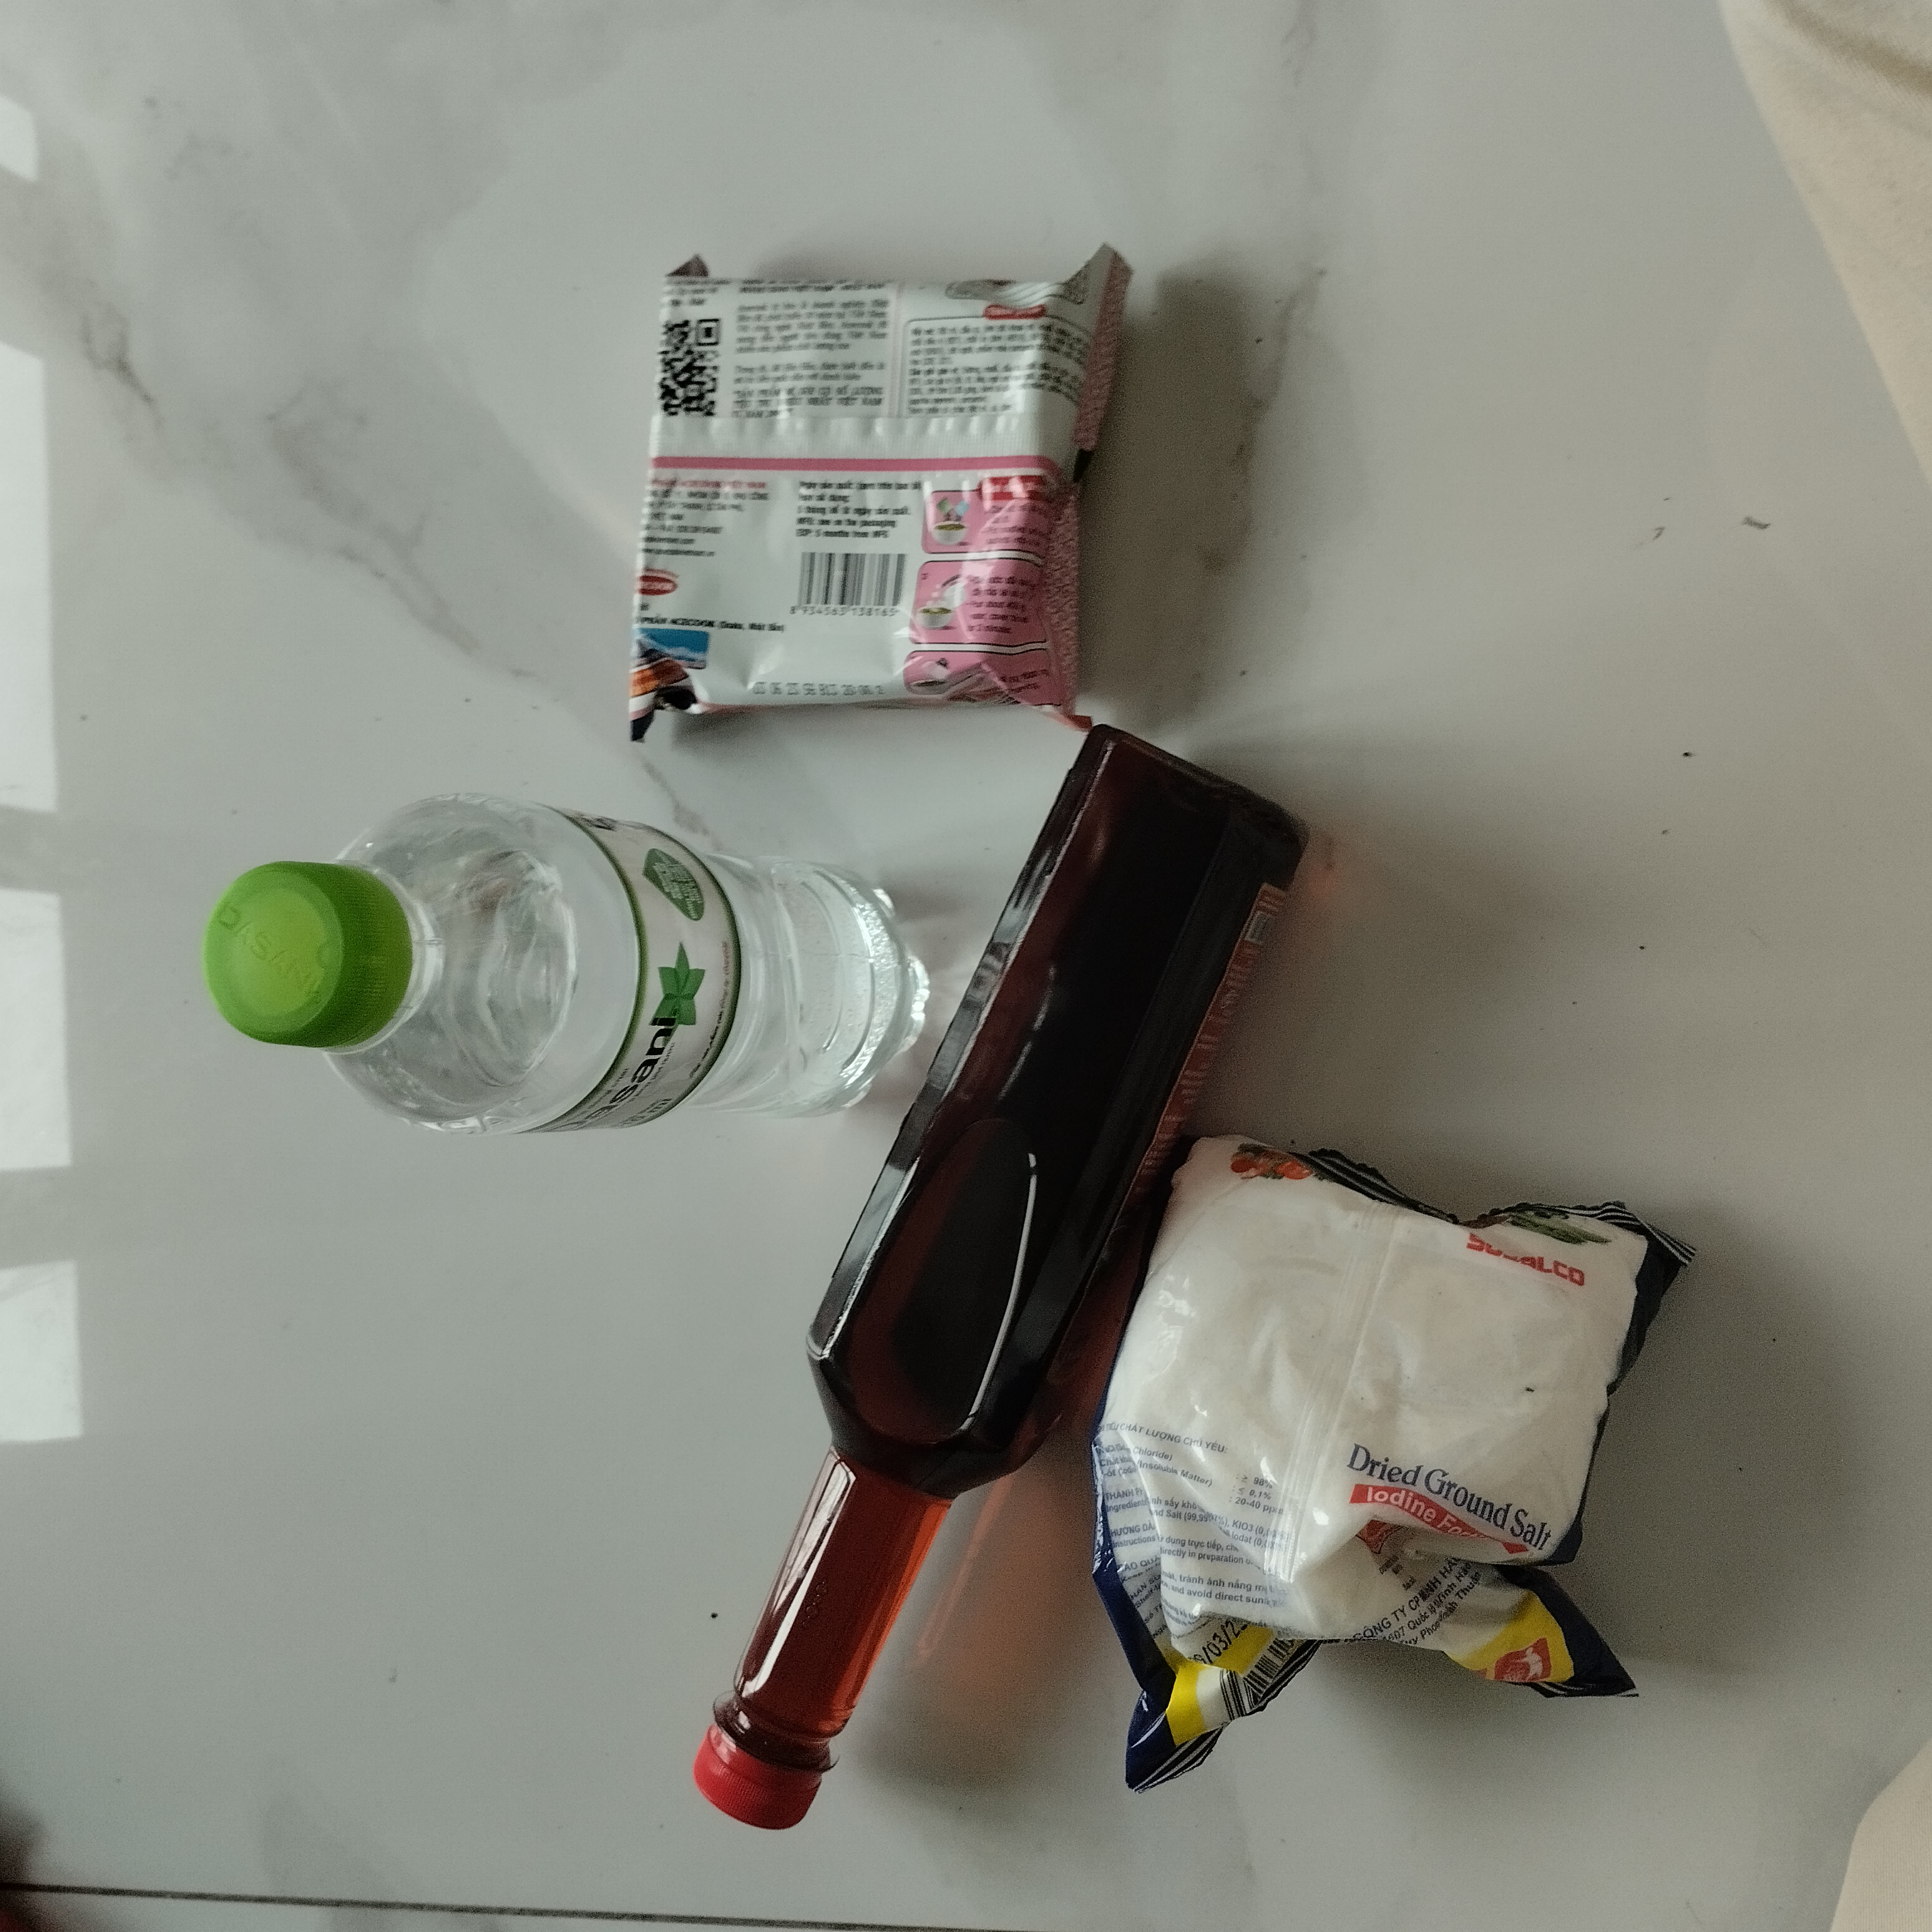Dasani: (209, 780, 941, 1169)
Haohao: (625, 244, 1136, 738)
Namngu: (690, 715, 1309, 1882)
Salt: (1095, 1118, 1691, 1798)
